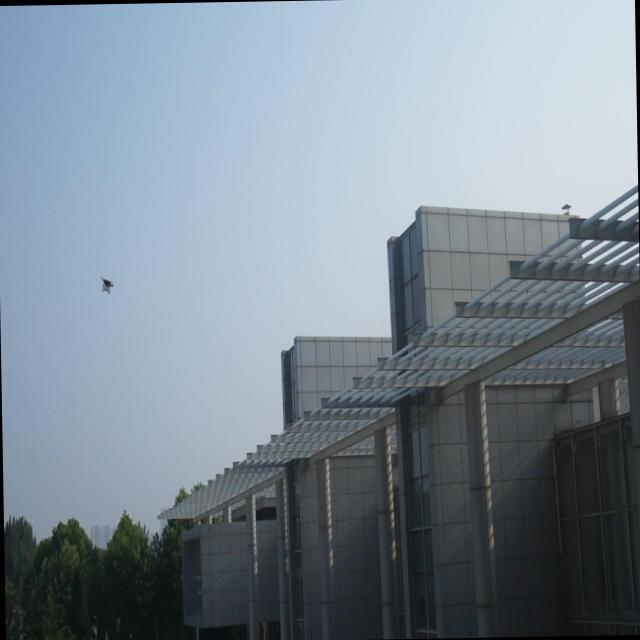drone: (100, 272, 114, 296)
